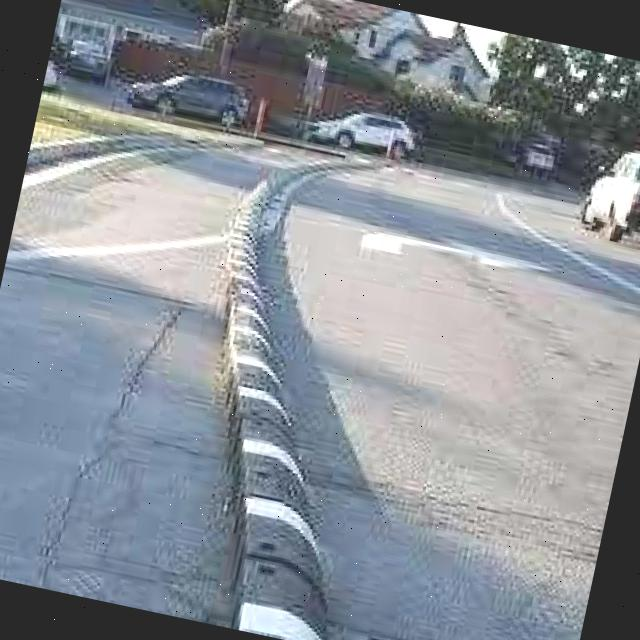curb: (174, 259, 351, 514), (219, 499, 347, 640), (215, 167, 293, 272), (74, 116, 173, 181), (24, 128, 67, 188)
